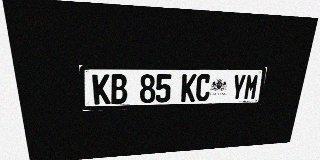5: (156, 74, 172, 103)
8: (140, 74, 156, 103)
B: (110, 74, 127, 104)
C: (195, 74, 211, 101)
K: (92, 74, 111, 105), (181, 74, 197, 102)
M: (243, 74, 260, 100)
Y: (230, 74, 247, 100)
